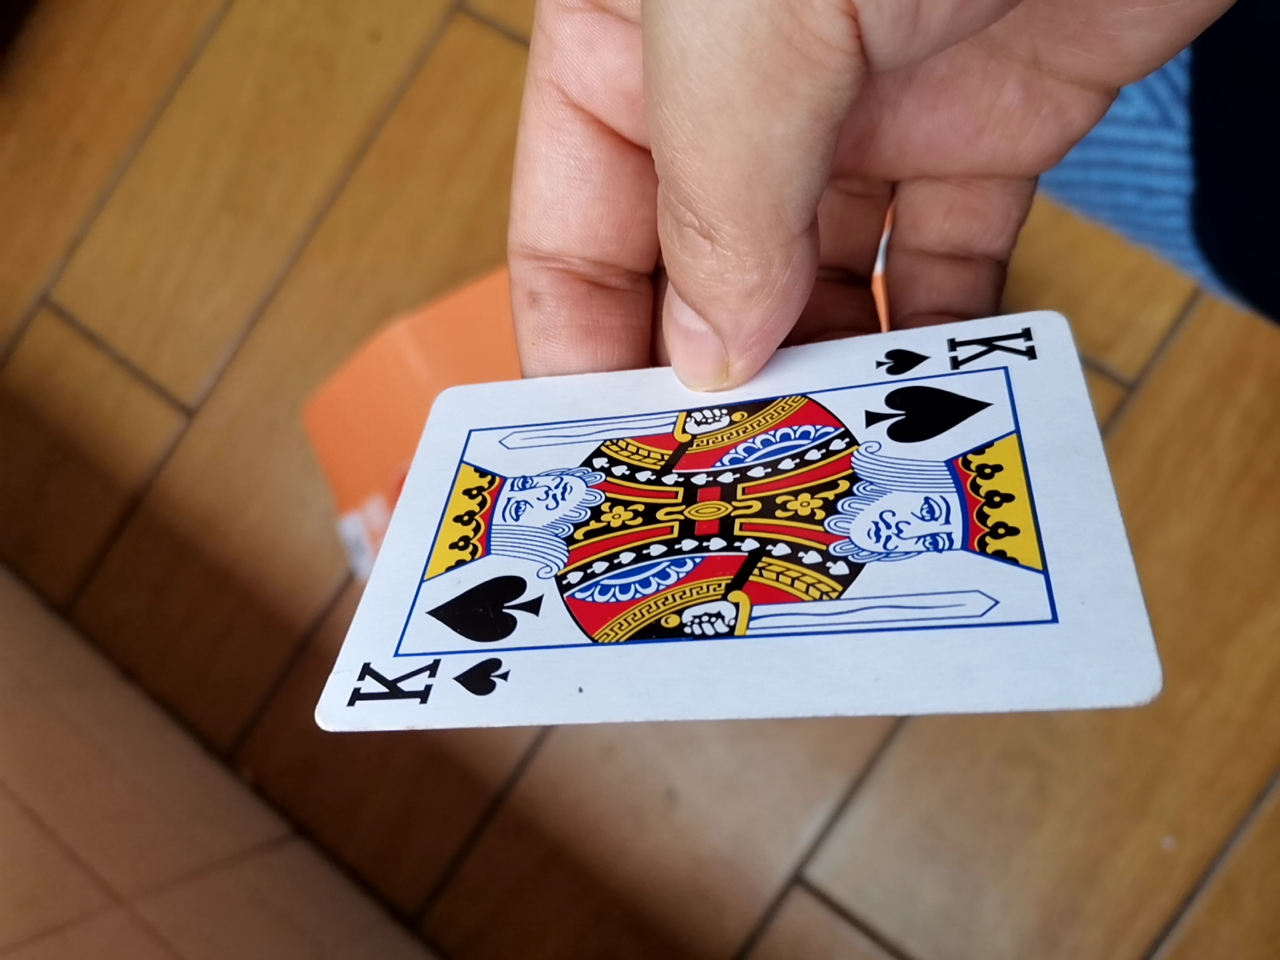ht k: (291, 313, 1162, 754)
